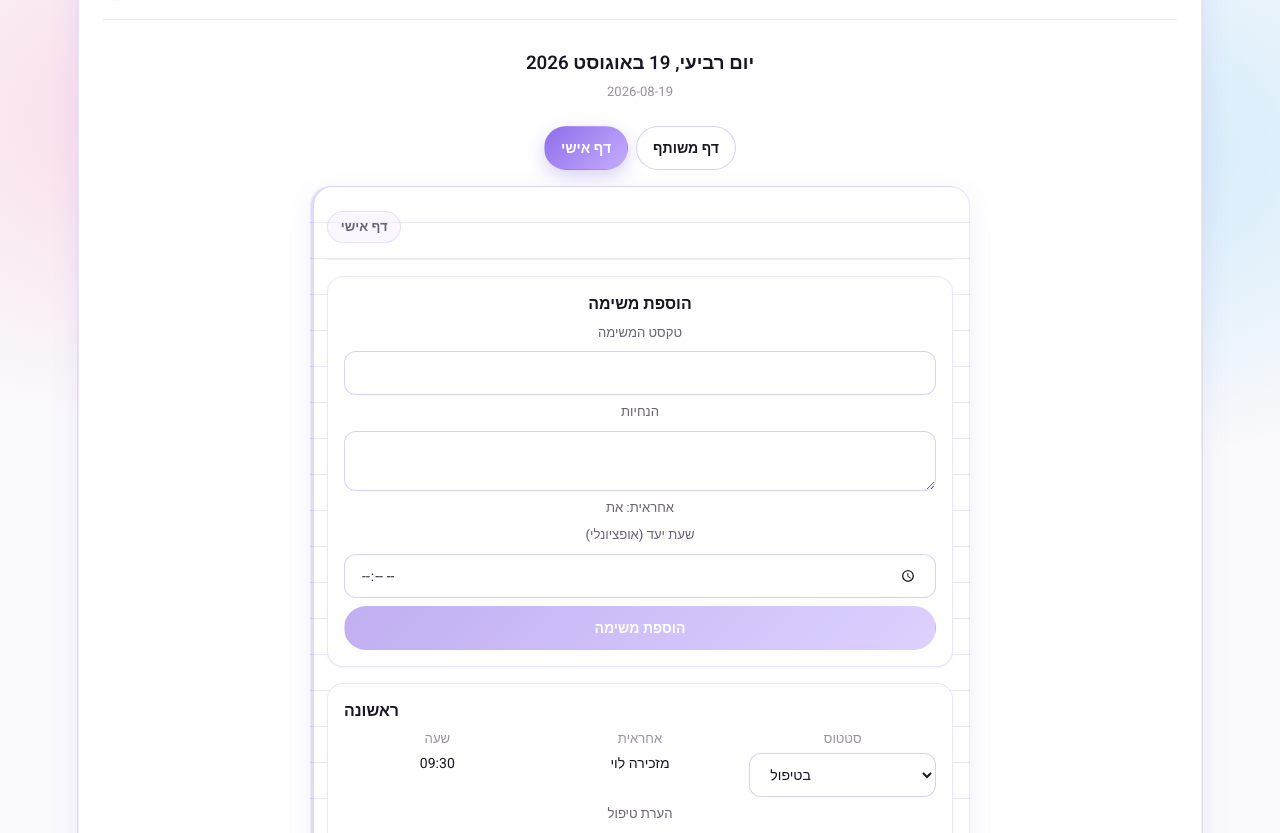
ManagementJournalSection J3A daily summary › lets a secretary participant open the shared daily summary
This screenshot has width=1280, height=833.
Click the radio button labelled "דף משותף": (686, 148) [636,126,736,170]
(page scrolled)
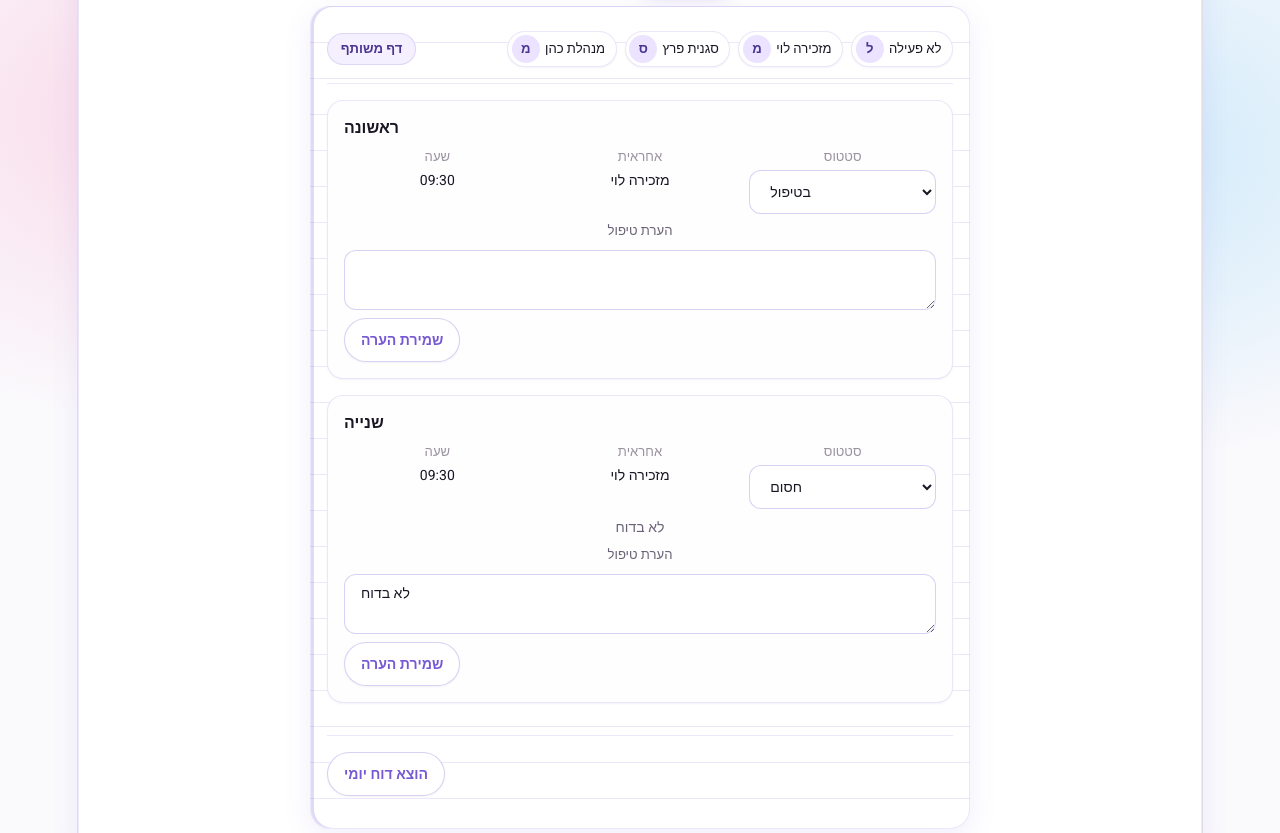
Click the button with test id "journal-daily-summary-open": (386, 774) [327,752,445,796]
(page scrolled)
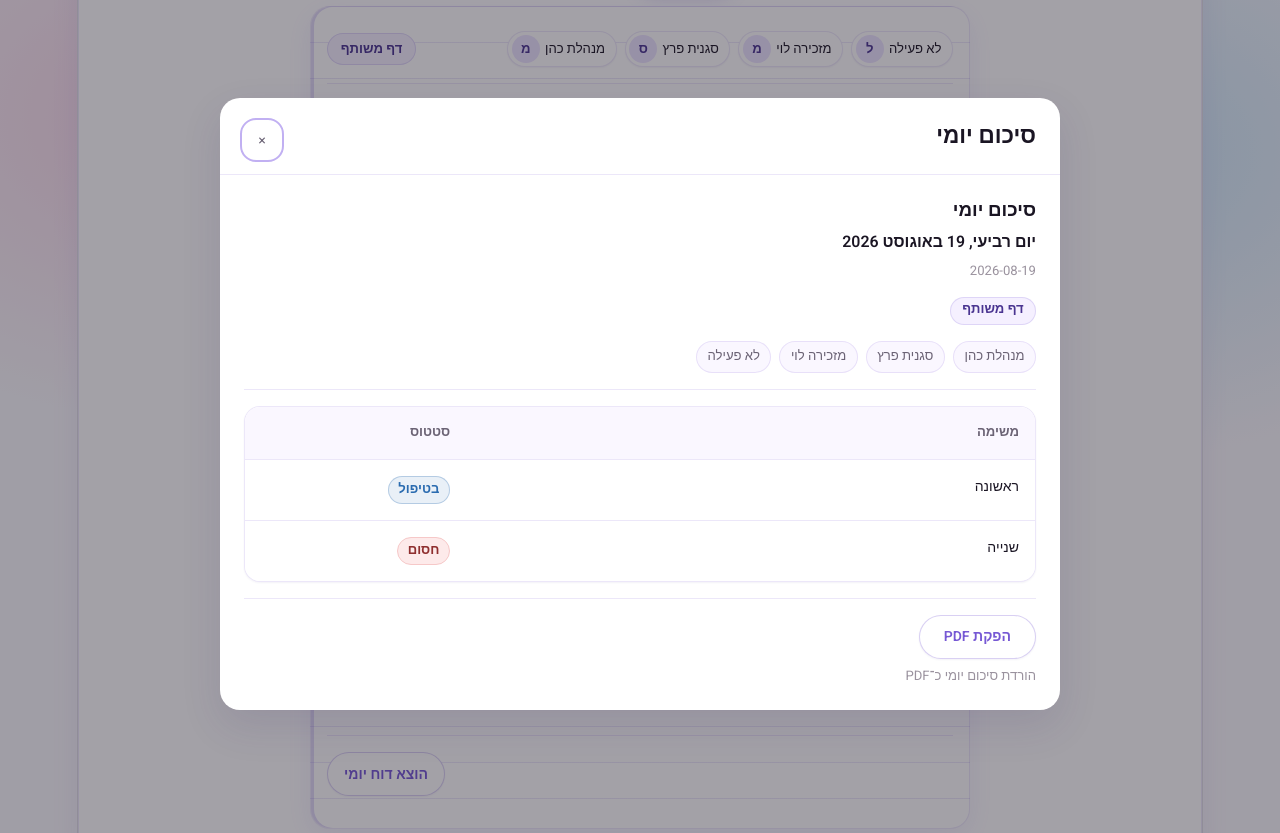
Expected: the element with test id "journal-daily-summary" does not show "לא בדוח", [244,199,1036,686]
Expected: the text with test id "journal-daily-summary-page-type" reads "דף משותף", [962,299,1024,319]
Expected: the list with test id "journal-daily-summary-participants" shows "מזכירה לוי", [791,346,846,366]
